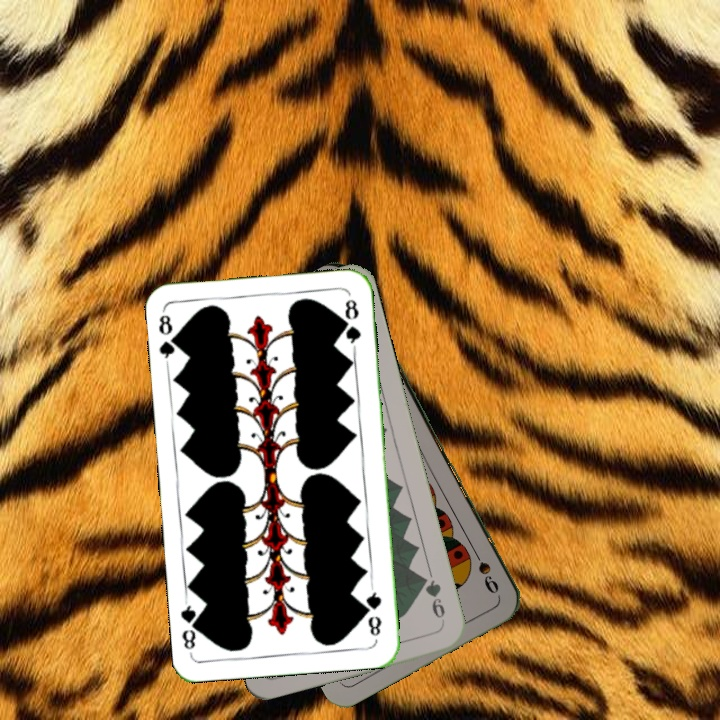G8: (155, 308, 183, 367), (362, 583, 384, 639)
G9: (417, 571, 448, 627)
S9: (467, 542, 502, 596)
